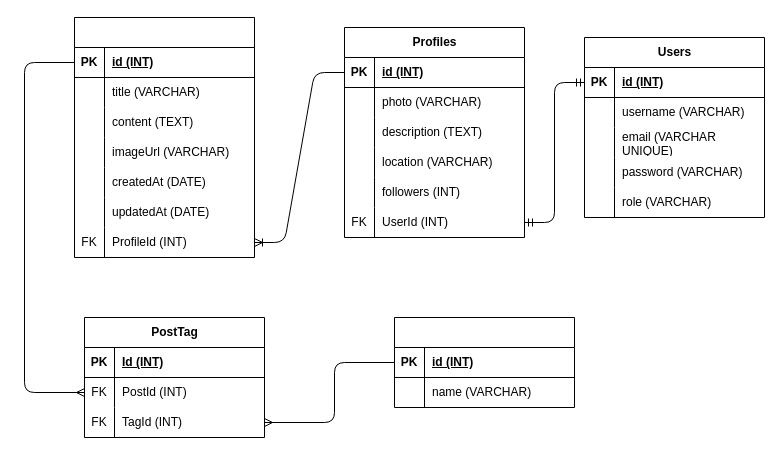
This 782x455 diagram has some shape labels left out. The box of each missing label's shape, as (x1, y1, x2, y2) in pixels:
Posts: (74, 16, 254, 258)
Tags: (394, 316, 574, 408)
